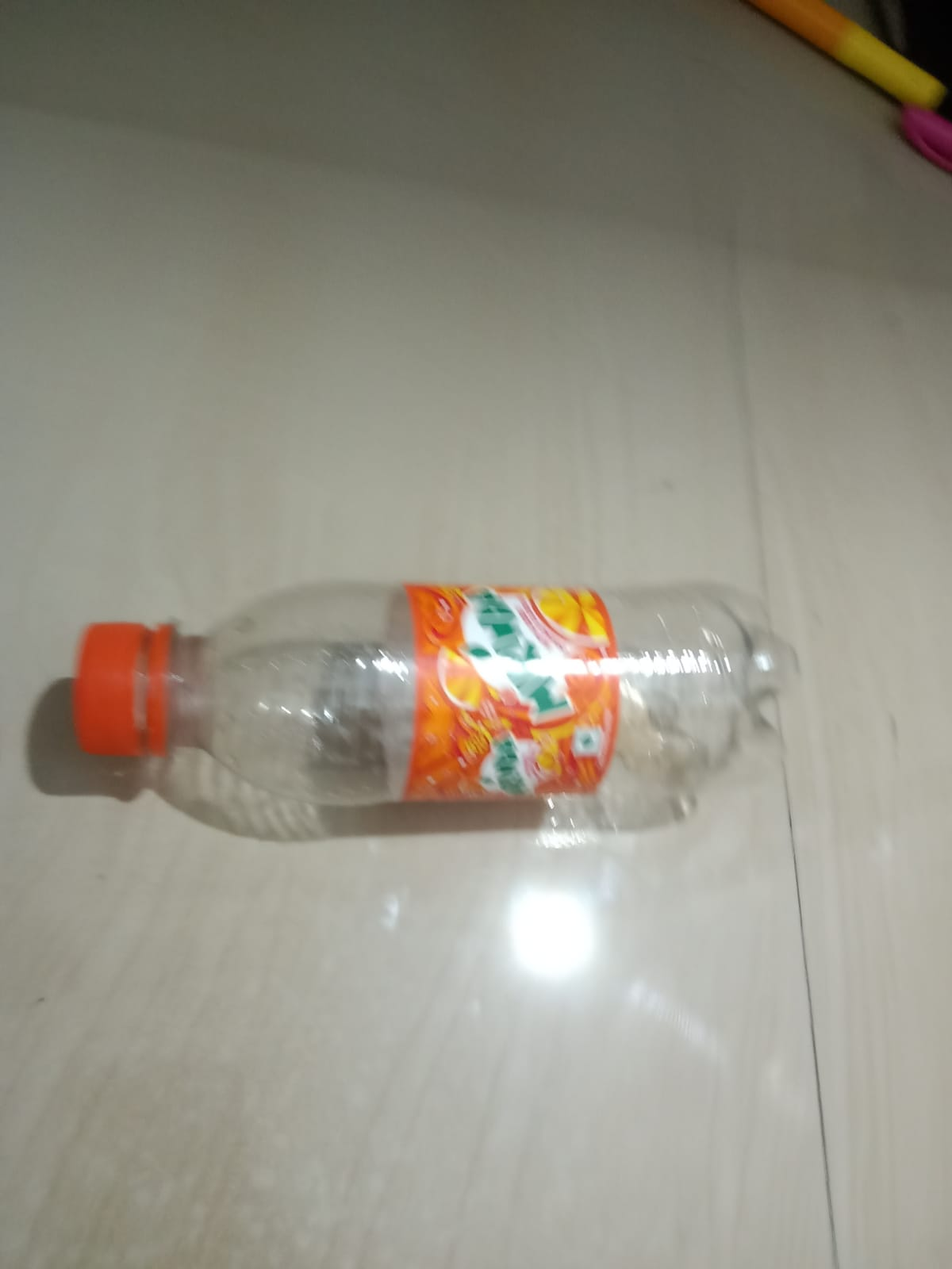plastic: (45, 482, 915, 882)
